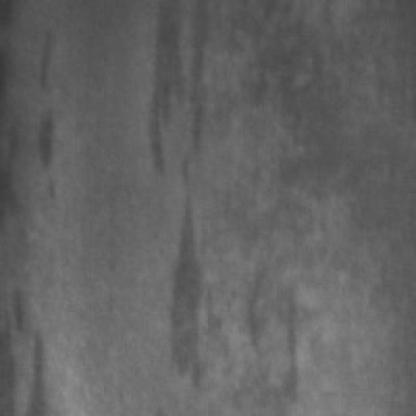inclusion: (148, 8, 224, 406), (27, 29, 83, 210), (239, 266, 308, 410), (3, 284, 62, 416)
